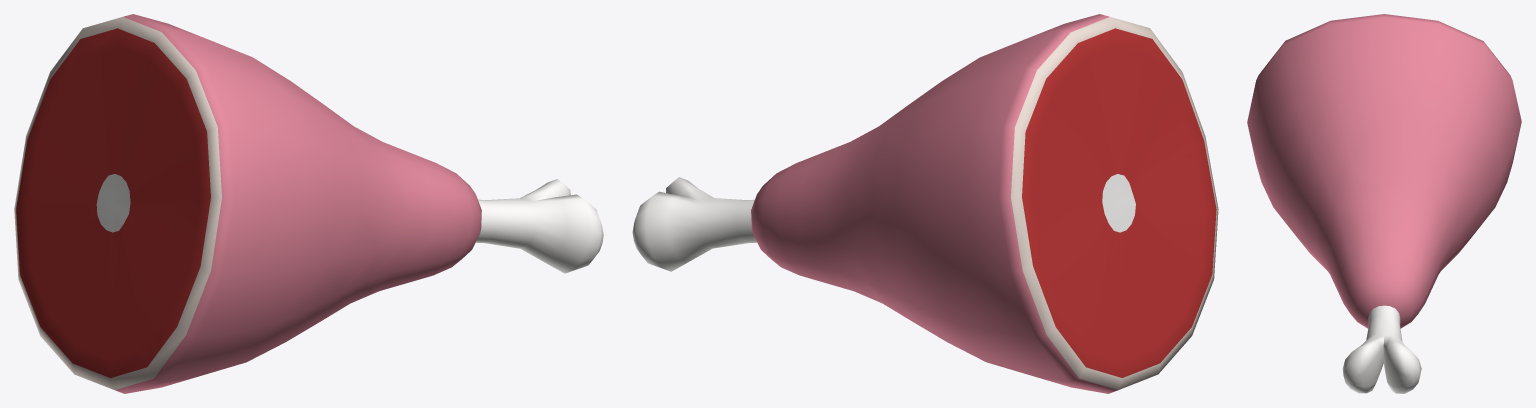
The model's file is Meet_half.glb.
3 views of the same model, side by side, from view 1: azimuth 30°, elevation 25°; view 2: azimuth 150°, elevation 25°; view 3: azimuth 270°, elevation 25° (orthographic). The views are drawn at different scales.
Parts seen in each view (by area): view 1: Ham_2; view 2: Ham_2; view 3: Ham_2.
Boxes of the visible parts, box(x1,y1,x2,y2) form: Ham_2: box(14, 14, 603, 393); Ham_2: box(632, 14, 1218, 393); Ham_2: box(1247, 14, 1521, 393).
Size of the model in its own units: 0.417 by 0.2577 by 0.2647.
1 material, 1 textured.
